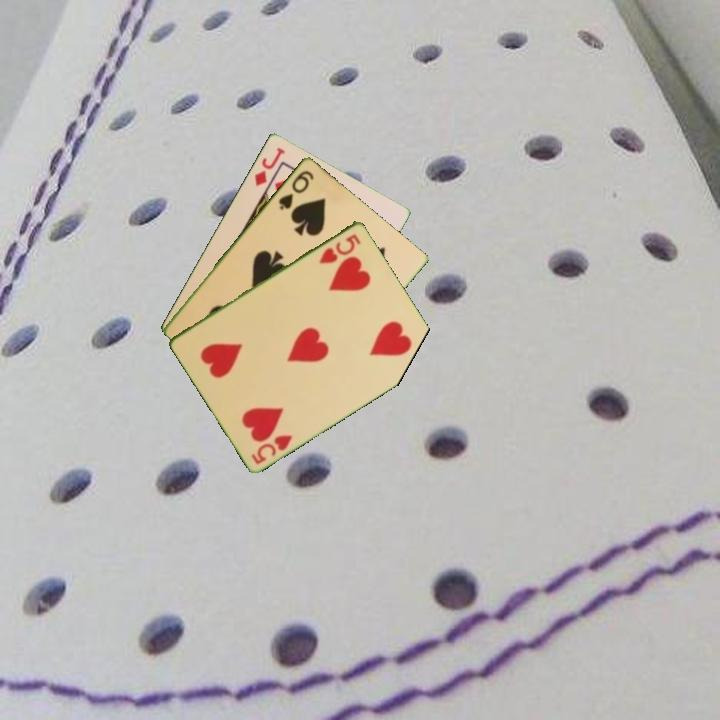5h: (315, 230, 364, 266), (248, 431, 295, 467)
6s: (275, 166, 317, 213)
Jd: (251, 143, 288, 189)
